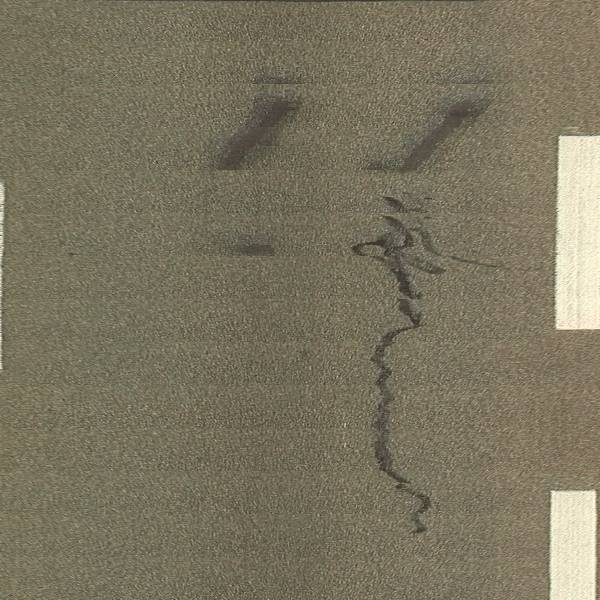road_damage: (349, 190, 451, 541)
